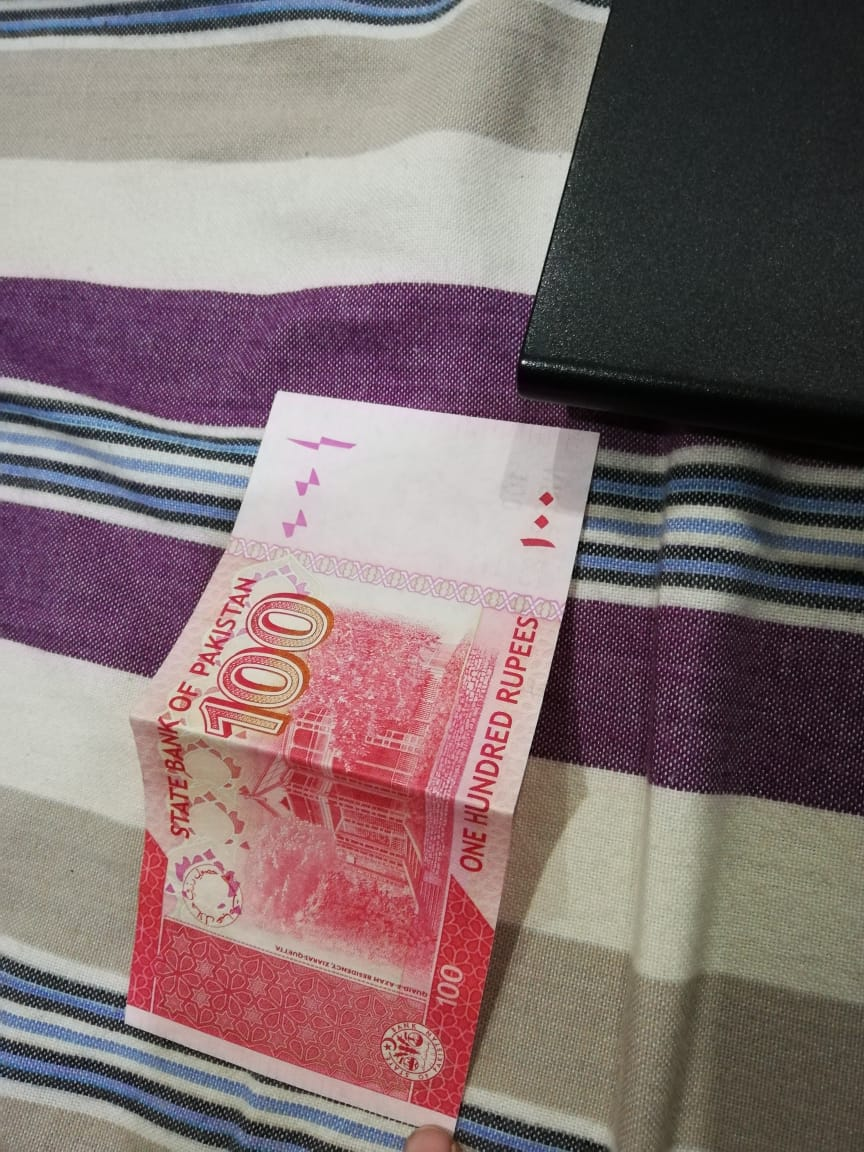100 rupee: (121, 395, 604, 1130)
